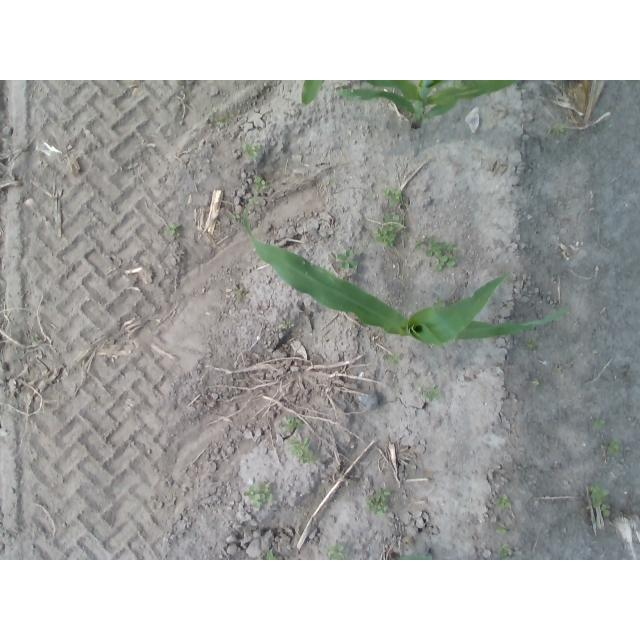Maize: (244, 196, 571, 348), (302, 80, 518, 129), (388, 552, 428, 561)
Weeds: (424, 235, 455, 270), (246, 482, 275, 508), (290, 436, 315, 461), (337, 249, 359, 271), (375, 225, 400, 244), (383, 187, 404, 201), (328, 542, 345, 558), (497, 543, 516, 557), (592, 485, 609, 500), (243, 143, 258, 159), (494, 495, 510, 510), (548, 123, 567, 135), (420, 387, 440, 398), (283, 418, 301, 430), (497, 521, 512, 535), (599, 500, 610, 517), (386, 353, 402, 364), (384, 213, 400, 224), (307, 451, 319, 464), (524, 338, 537, 350), (170, 223, 183, 235), (366, 494, 377, 508), (377, 489, 391, 500), (266, 549, 279, 560), (254, 175, 266, 185), (594, 417, 605, 427), (609, 443, 620, 453), (377, 503, 388, 513), (281, 320, 294, 328), (217, 117, 228, 125), (233, 288, 243, 296), (212, 107, 218, 114)
